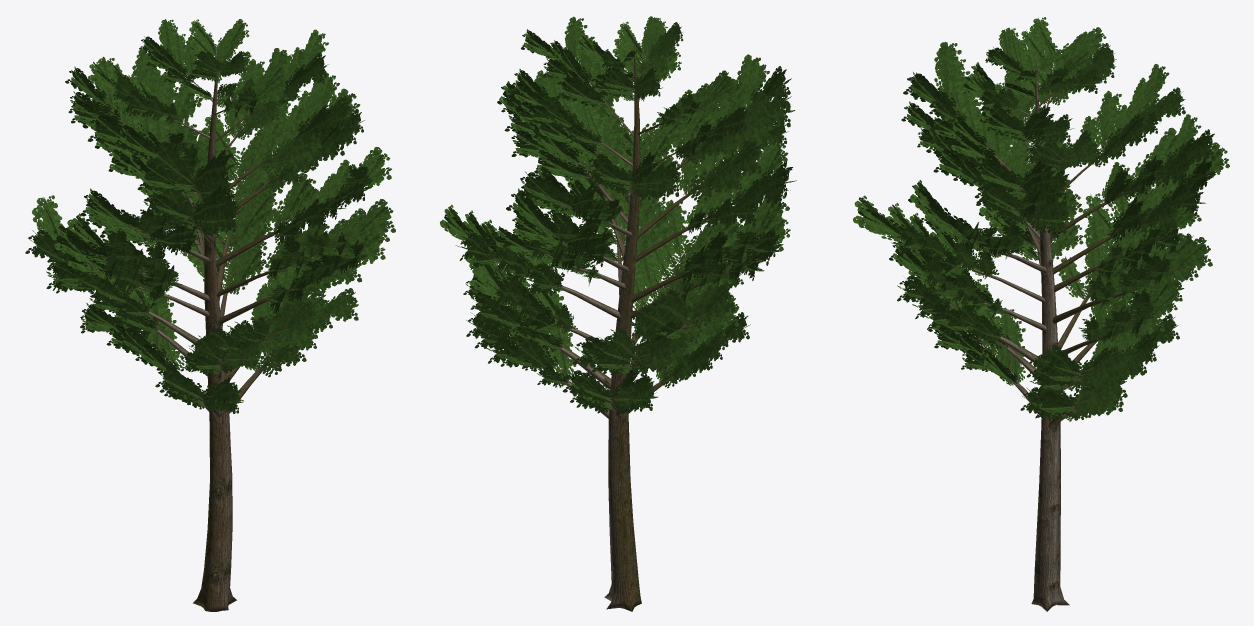
File: common-alder.glb
3 renders of one model, left to right at view 1: azimuth 30°, elevation 25°; view 2: azimuth 150°, elevation 25°; view 3: azimuth 270°, elevation 25°, orthographic. The views are drawn at different scales.
Parts seen in each view (by area): view 1: Common alder; view 2: Common alder; view 3: Common alder.
Part boxes in pixels (x1=…): Common alder: x1=25, y1=19, x2=395, y2=611; Common alder: x1=440, y1=16, x2=796, y2=611; Common alder: x1=853, y1=17, x2=1229, y2=611.
Bounding box in the file's own units: 7.86 × 13.35 × 8.55.
2 materials, 2 textured.
